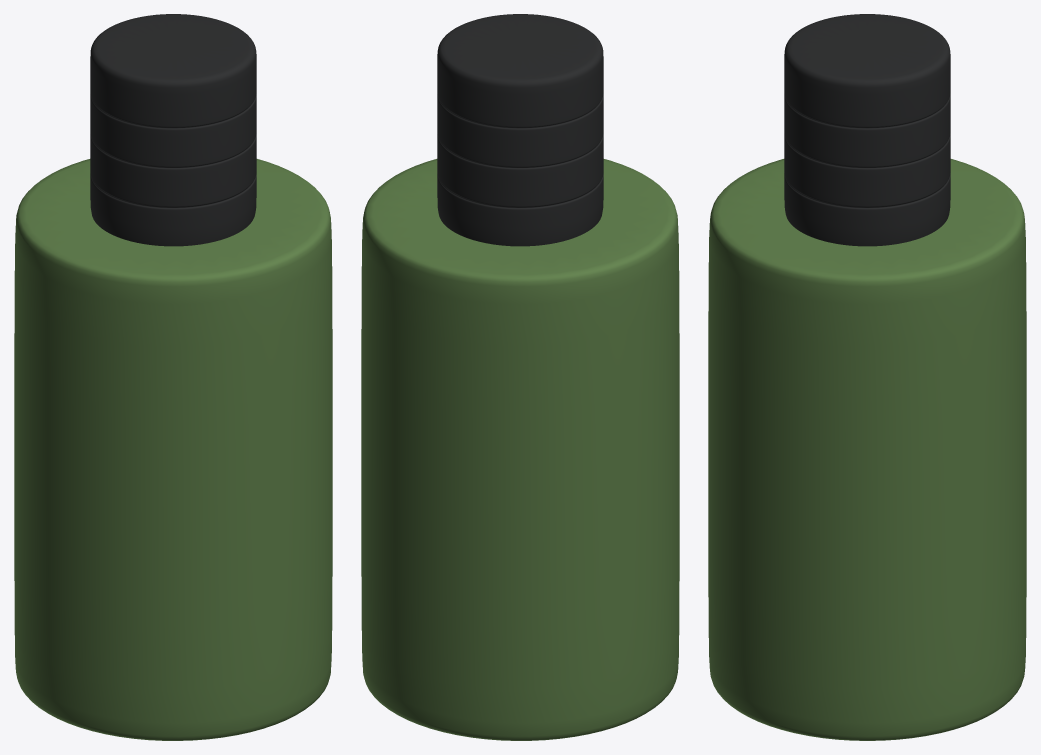
3 renders of one model, left to right at view 1: azimuth 30°, elevation 25°; view 2: azimuth 150°, elevation 25°; view 3: azimuth 270°, elevation 25°, orthographic.
Visible parts, largest first — view 1: sauvage, cap; view 2: sauvage, cap; view 3: sauvage, cap.
Part boxes in pixels (bbox=[...]): sauvage: bbox=[14, 159, 332, 740]; cap: bbox=[90, 14, 256, 246]; sauvage: bbox=[361, 159, 679, 740]; cap: bbox=[437, 14, 603, 246]; sauvage: bbox=[708, 159, 1026, 740]; cap: bbox=[784, 14, 950, 246].
Bounding box in the file's own units: 3.81 × 8.31 × 3.81.
